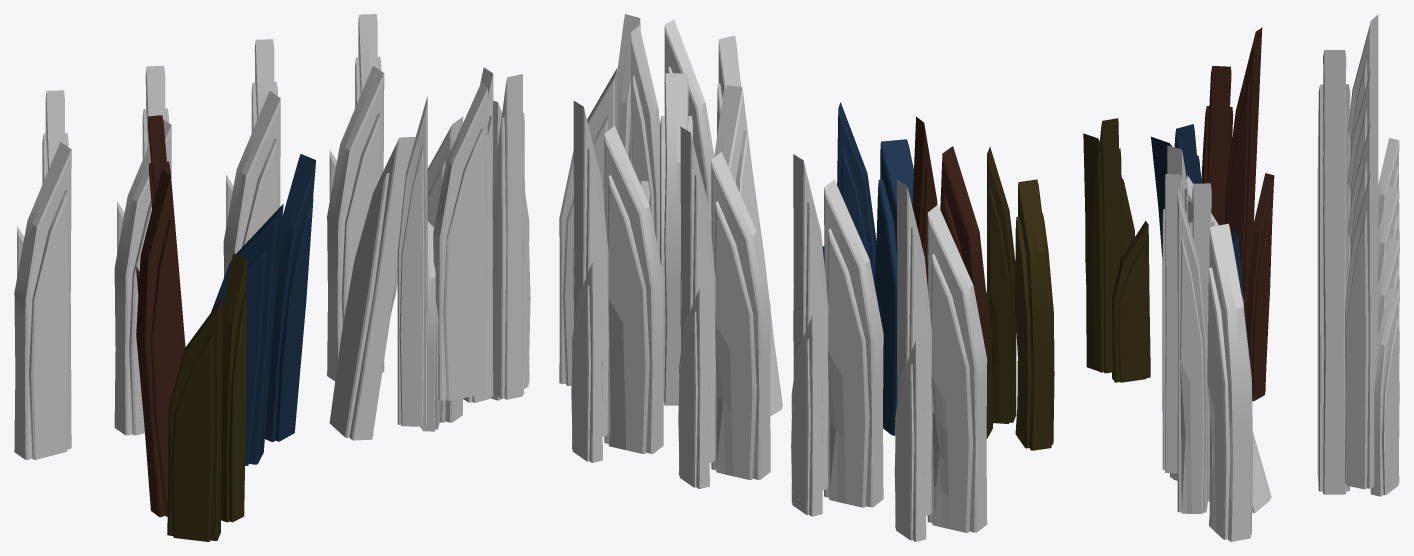
File: PillarStag00RockStags.fbx
The picture shows the model from 3 angles, left to right: view 1: azimuth 30°, elevation 25°; view 2: azimuth 150°, elevation 25°; view 3: azimuth 270°, elevation 25°; orthographic projection. The views are drawn at different scales.
Parts seen in each view (by area): view 1: RocksStag_Cluster_NoBend, RocksStag_Cluster1, RocksStag_001_Subdiv03, RocksStag, RocksStag_001_Subdiv02, RocksStag_001_Subdiv01; view 2: RocksStag_Cluster1, RocksStag_001_Subdiv02, RocksStag_001_Subdiv01, RocksStag, RocksStag_001_Subdiv03, RocksStag_Cluster_NoBend; view 3: RocksStag_Cluster1, RocksStag_Cluster_NoBend, RocksStag, RocksStag_001_Subdiv02, RocksStag_001_Subdiv01, RocksStag_001_Subdiv03.
Part boxes in pixels (x1,y1,x2,y2): RocksStag_Cluster_NoBend: (329, 67, 530, 440); RocksStag_Cluster1: (136, 115, 315, 541); RocksStag_001_Subdiv03: (14, 90, 71, 459); RocksStag: (327, 14, 384, 381); RocksStag_001_Subdiv02: (114, 66, 171, 435); RocksStag_001_Subdiv01: (223, 39, 280, 277); RocksStag_Cluster1: (822, 102, 1054, 450); RocksStag_001_Subdiv02: (791, 154, 883, 516); RocksStag_001_Subdiv01: (678, 126, 770, 488); RocksStag: (571, 101, 663, 462); RocksStag_001_Subdiv03: (894, 179, 987, 541); RocksStag_Cluster_NoBend: (559, 14, 782, 416); RocksStag_Cluster1: (1083, 27, 1274, 401); RocksStag_Cluster_NoBend: (1162, 145, 1271, 541); RocksStag: (1317, 165, 1399, 496); RocksStag_001_Subdiv02: (1317, 62, 1399, 301); RocksStag_001_Subdiv01: (1317, 115, 1399, 353); RocksStag_001_Subdiv03: (1317, 14, 1399, 252).
Bounding box in the file's own units: 16.63 × 12.94 × 10.09.
